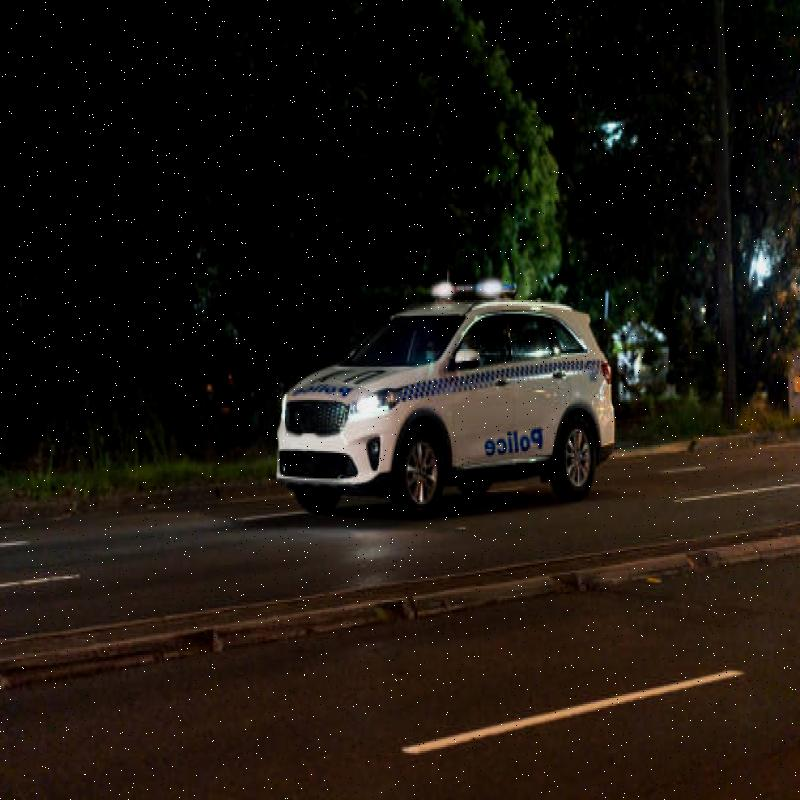AmbulanceSiren: (424, 259, 514, 311)
car: (263, 295, 658, 518)
